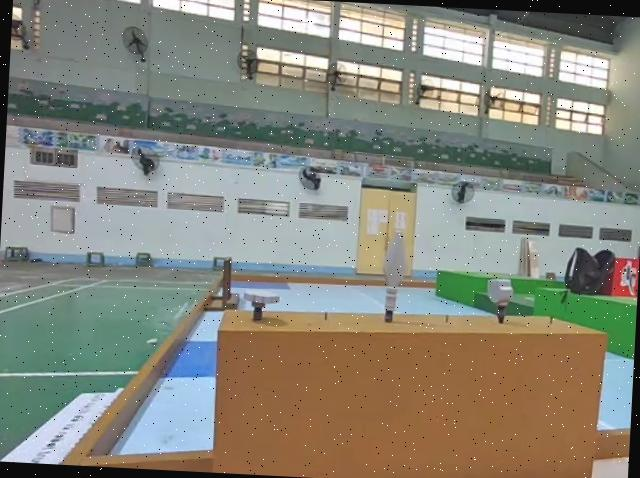Fist: (484, 273, 516, 323)
Hand: (239, 287, 280, 322)
Sph: (379, 237, 410, 324)
